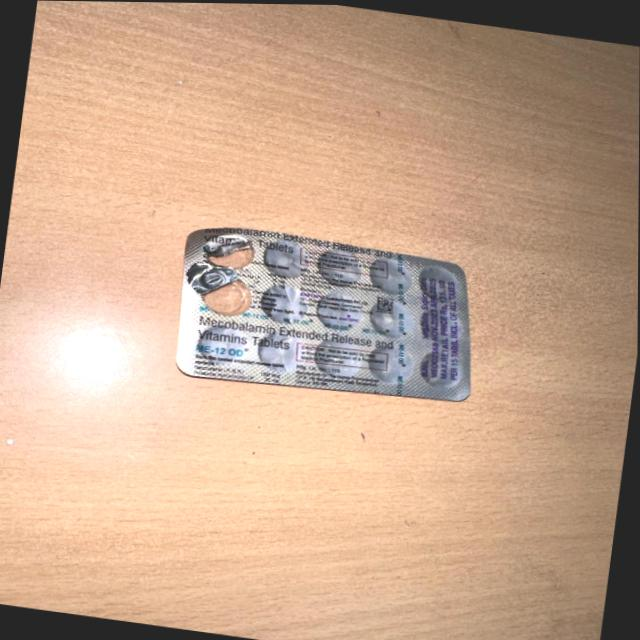medicine: (163, 211, 488, 414)
